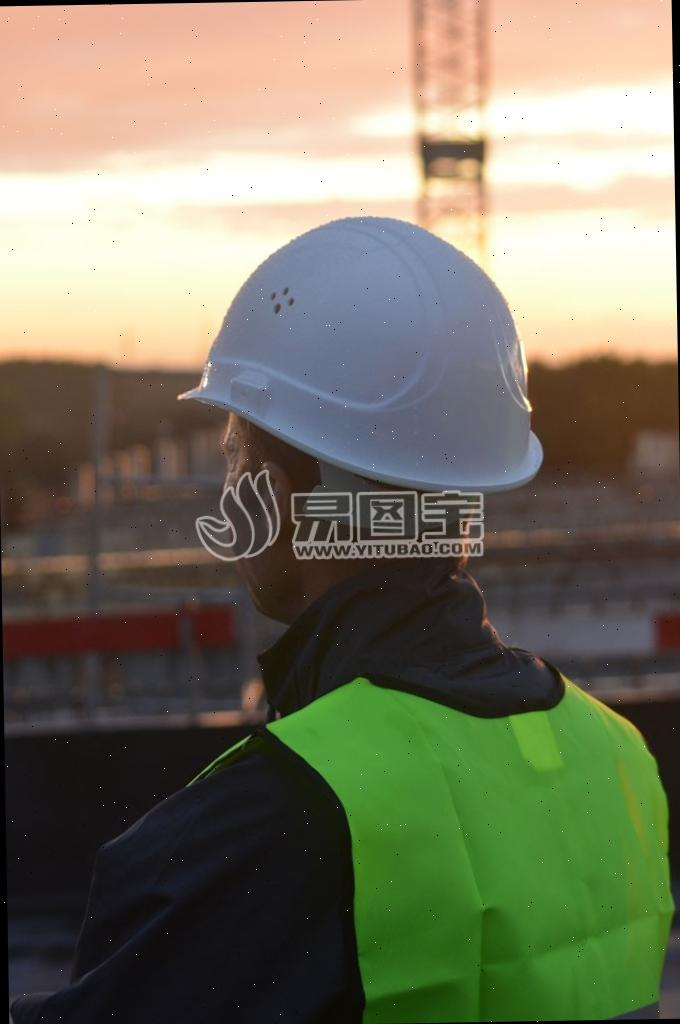helmet: (61, 655, 677, 1024), (156, 210, 562, 514)
